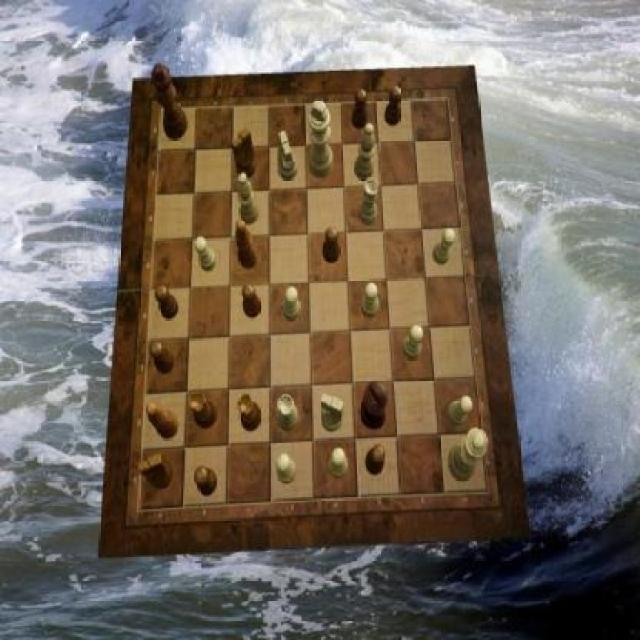bishop: (146, 402, 179, 439), (236, 220, 258, 271)
black-bishop: (360, 382, 388, 429)
black-king: (232, 128, 257, 180), (138, 454, 174, 490)
black-knight: (150, 342, 176, 376), (156, 285, 180, 319), (194, 464, 217, 496), (350, 91, 368, 131), (243, 285, 263, 319), (386, 86, 403, 126), (366, 444, 386, 476), (322, 228, 339, 264)
black-pawn: (150, 63, 188, 141)
black-queen: (189, 391, 217, 428), (238, 394, 262, 432)
black-rook: (356, 123, 376, 181), (237, 174, 259, 226)
white-bishop: (309, 100, 334, 178)
white-king: (278, 130, 298, 182), (322, 394, 344, 432)
white-knight: (434, 230, 457, 266), (195, 237, 218, 271), (402, 324, 422, 360), (448, 397, 472, 426), (362, 283, 379, 319), (276, 454, 296, 484), (329, 448, 349, 478), (282, 288, 299, 322)
white-pawn: (448, 428, 488, 482)
white-queen: (358, 179, 378, 226), (277, 394, 300, 431)
